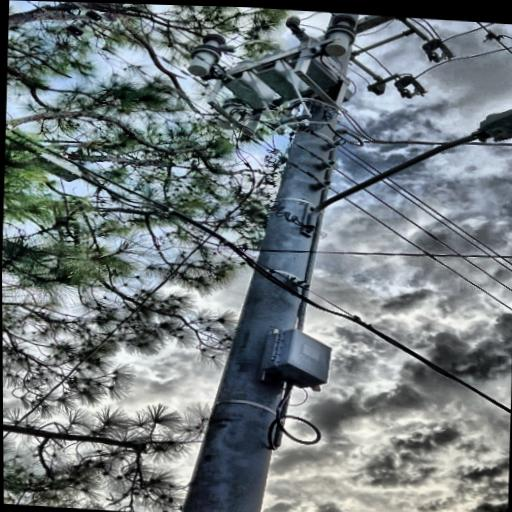pole: (119, 4, 368, 512)
street light: (300, 86, 512, 251)
vegetation_encroachment: (125, 4, 325, 237)
